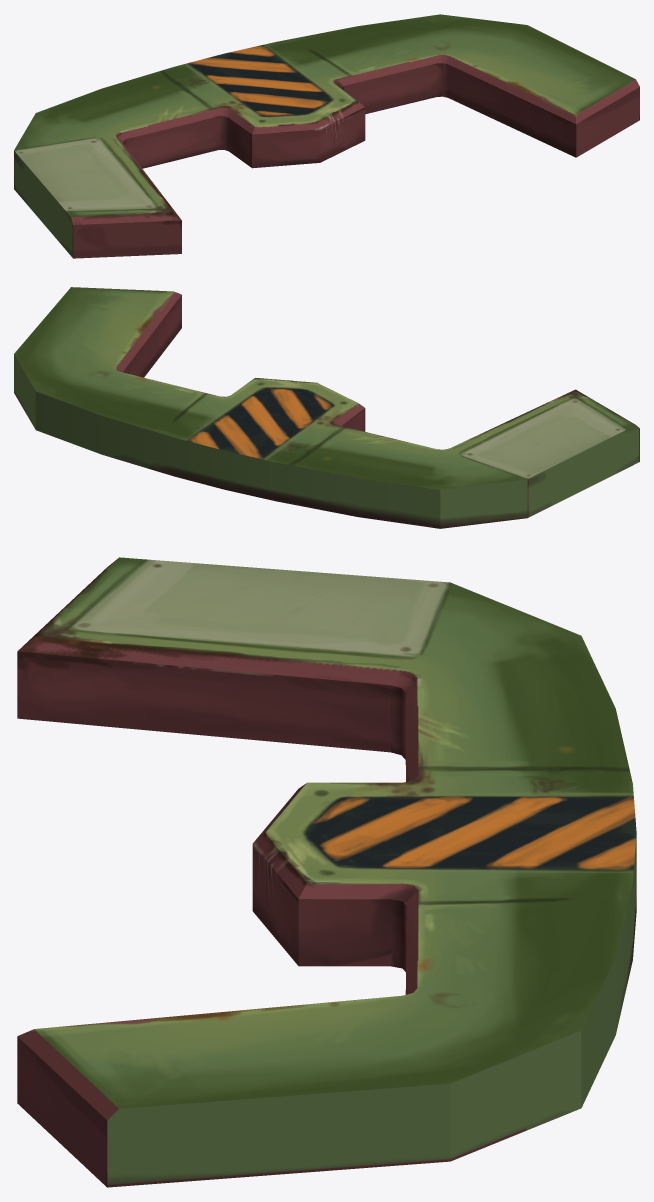
File: main_table.obj
3 views of the same model, one above another, from view 1: azimuth 30°, elevation 25°; view 2: azimuth 150°, elevation 25°; view 3: azimuth 270°, elevation 25° (orthographic). The views are drawn at different scales.
Visible parts, largest first — view 1: Cube_export; view 2: Cube_export; view 3: Cube_export.
Part boxes in pixels (<box>): Cube_export: <box>14,14,639,258</box>; Cube_export: <box>14,287,639,528</box>; Cube_export: <box>17,557,636,1187</box>.
Size of the model in its own units: 4.53 by 0.2976 by 2.14.
